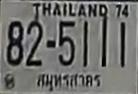1: (102, 21, 107, 66), (82, 21, 87, 64), (121, 21, 125, 67)
2: (25, 20, 42, 66)
5: (58, 20, 74, 66)
8: (6, 19, 22, 64)
SKN: (35, 69, 104, 93)
